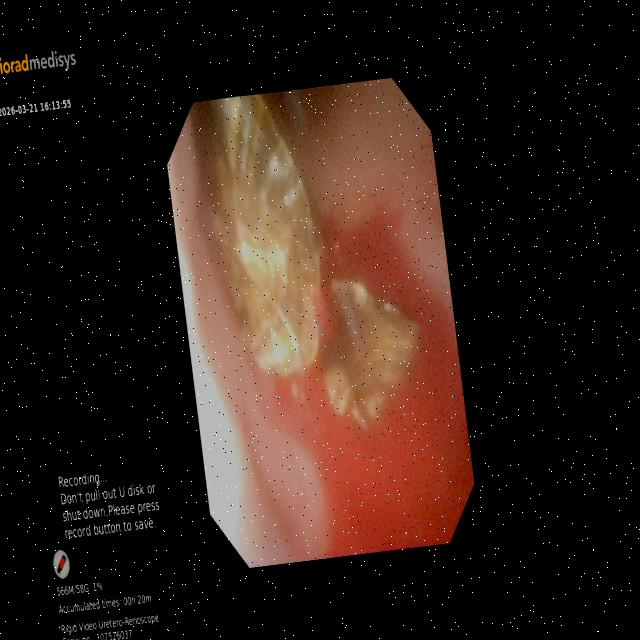stone-new: (214, 94, 319, 375), (324, 279, 418, 429)
